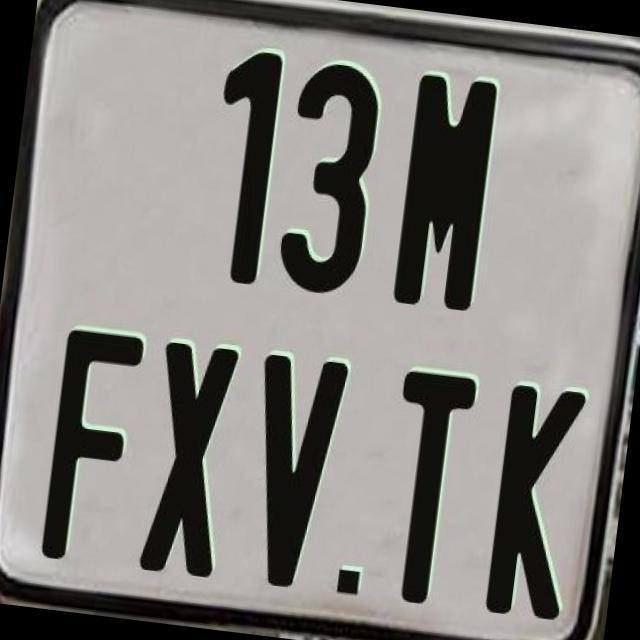1: (200, 45, 288, 288)
3: (270, 58, 384, 304)
F: (37, 322, 145, 568)
K: (482, 380, 592, 626)
M: (392, 69, 505, 317)
T: (374, 366, 478, 608)
V: (232, 348, 352, 592)
X: (133, 336, 236, 580)
